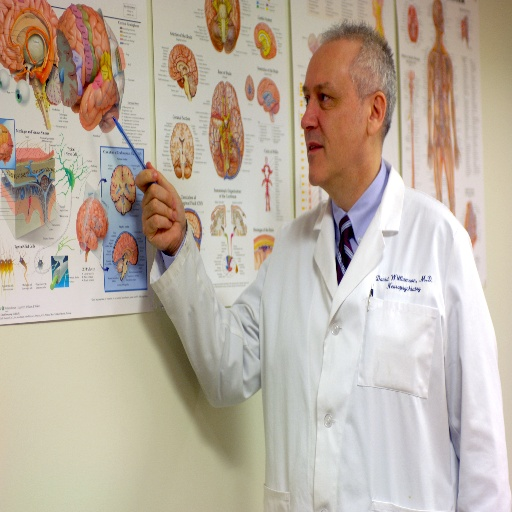hand: (135, 163, 181, 249), (425, 139, 436, 171), (453, 144, 461, 169)
